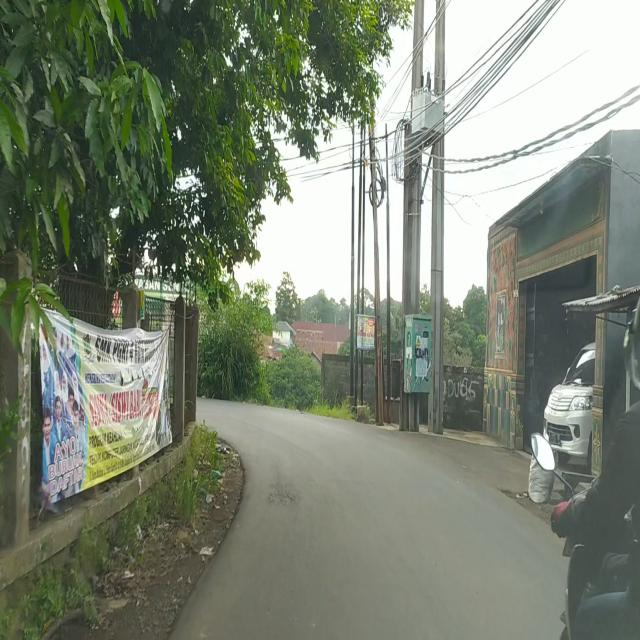Drain Hole: (265, 486, 299, 505)
